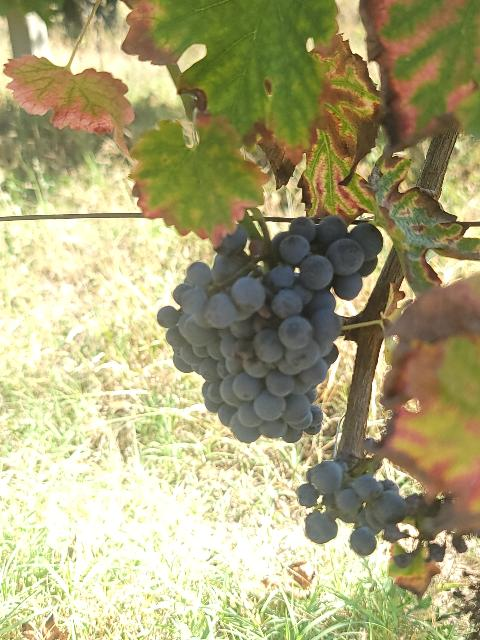grapes: (158, 216, 382, 442), (296, 460, 444, 555)
